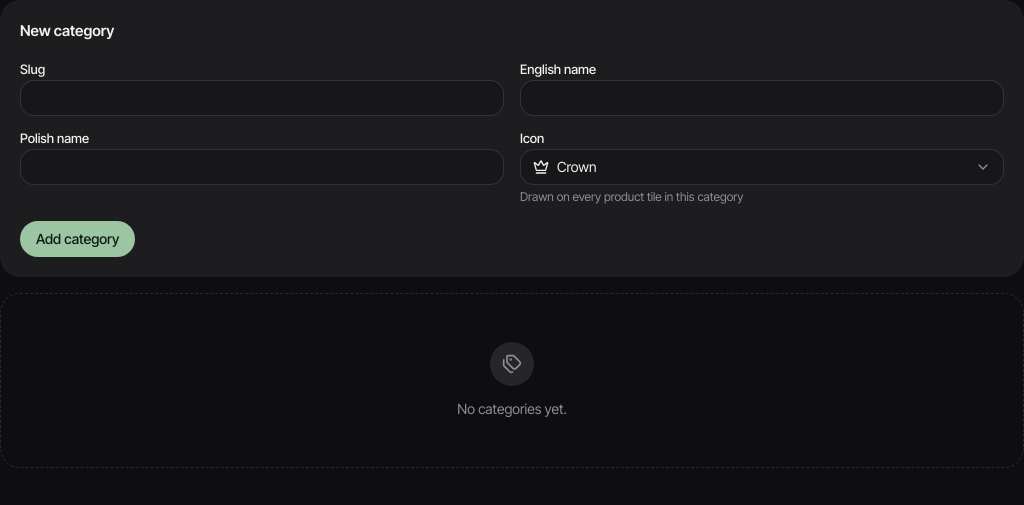
Scenario: CategoriesTable › shows a field error for a bad slug
Step 1. Type "Bad Slug" into the field labelled "Slug" → (262, 98), box left=20, top=80, right=504, bottom=116
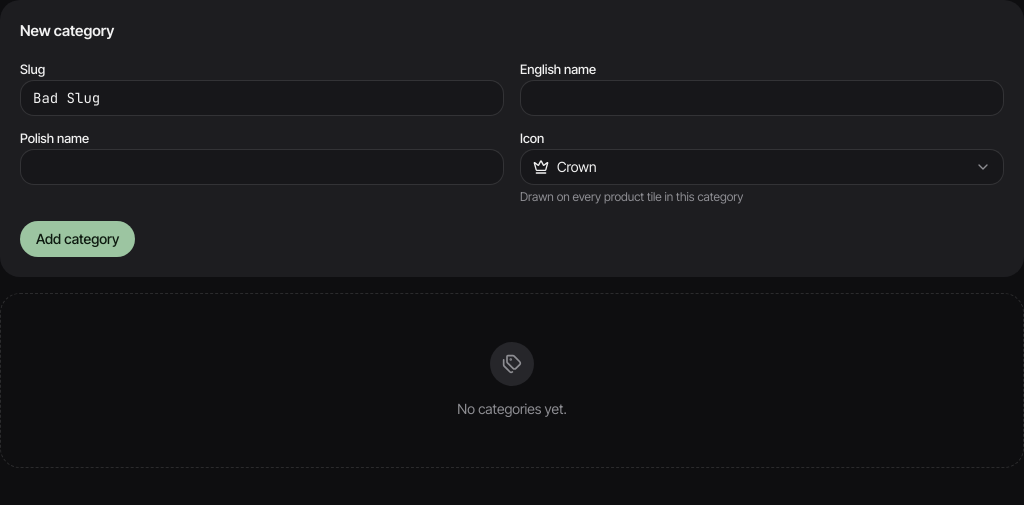
Step 2. Click the button "Add category" → (78, 238), box left=20, top=220, right=136, bottom=256
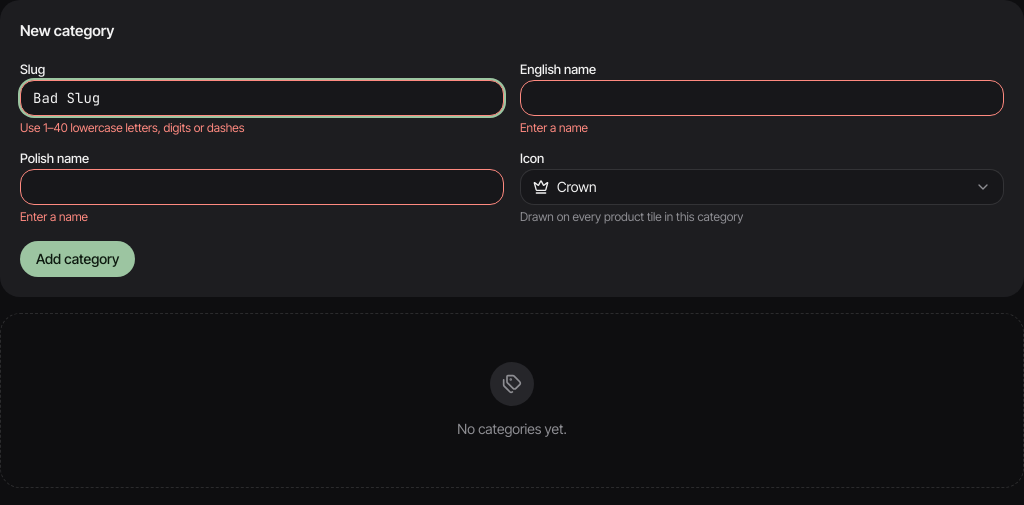
Check: the text "Use 1–40 lowercase letters, digits or dashes" is shown, box left=20, top=120, right=244, bottom=134
